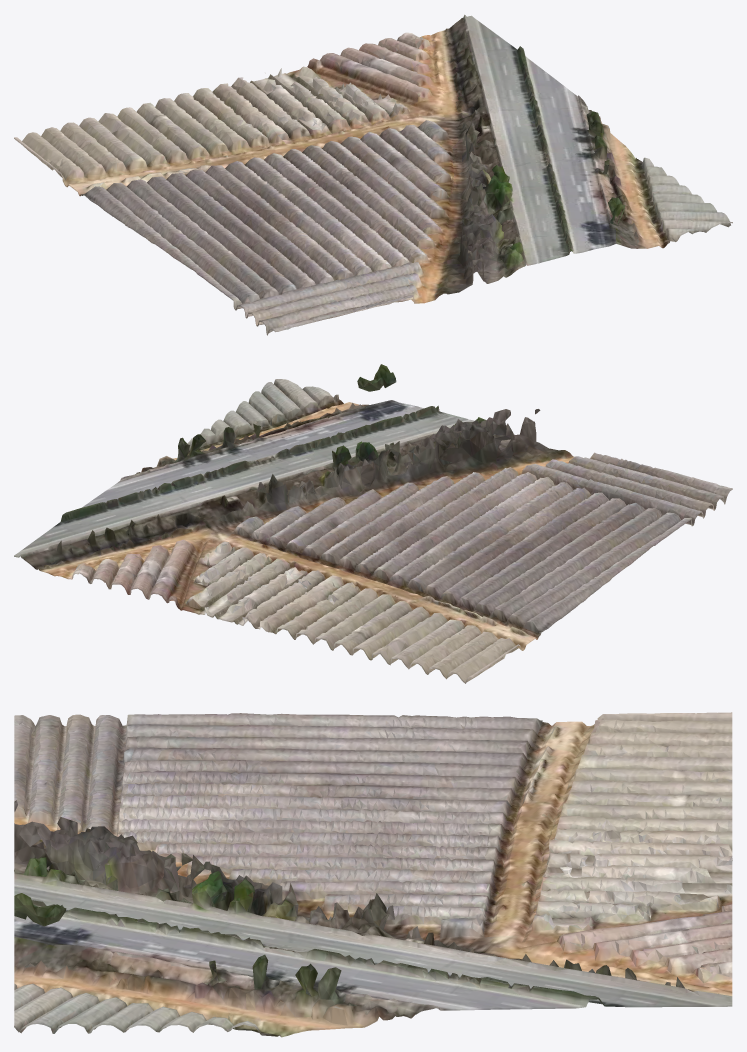
Rendered from BlockYB_L17_18.glb.
The picture shows the model from 3 angles, top to bottom: view 1: azimuth 30°, elevation 25°; view 2: azimuth 150°, elevation 25°; view 3: azimuth 270°, elevation 25°; orthographic projection. The views are drawn at different scales.
Parts seen in each view (by area): view 1: rtc; view 2: rtc; view 3: rtc.
Part boxes in pixels (x1=…): rtc: x1=14, y1=14, x2=732, y2=335; rtc: x1=14, y1=364, x2=732, y2=683; rtc: x1=14, y1=712, x2=732, y2=1037.
Size of the model in its own units: 132 by 14.49 by 131.
4 materials, 4 textured.
